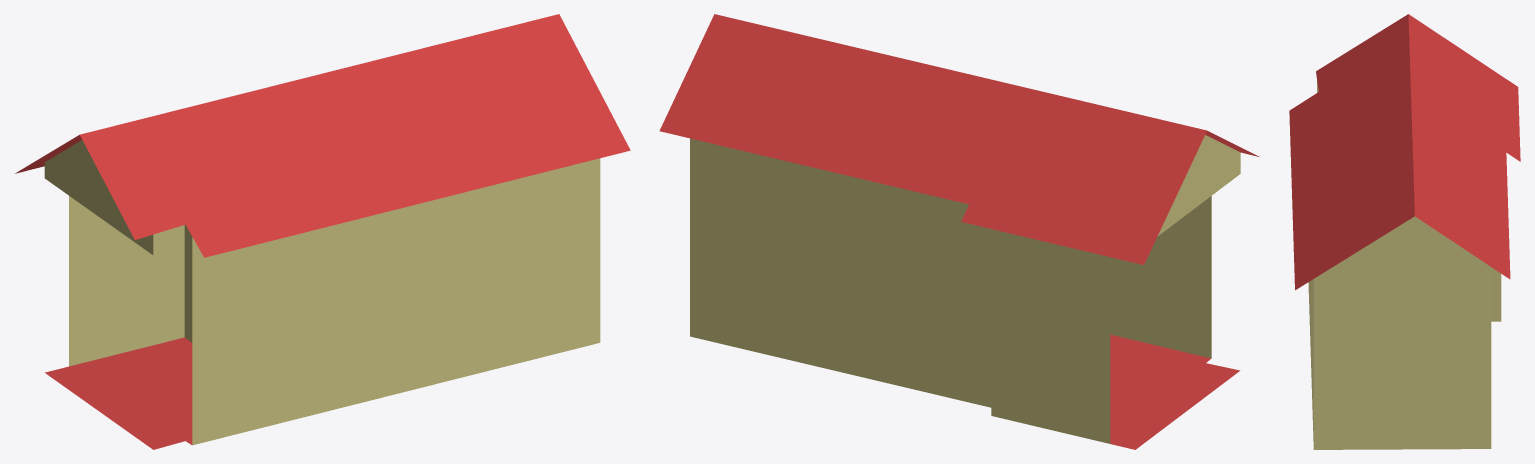
The picture shows the model from 3 angles, left to right: view 1: azimuth 30°, elevation 25°; view 2: azimuth 150°, elevation 25°; view 3: azimuth 270°, elevation 25°; orthographic projection. The views are drawn at different scales.
Size of the model in its own units: 19.02 by 9.13 by 10.51.
